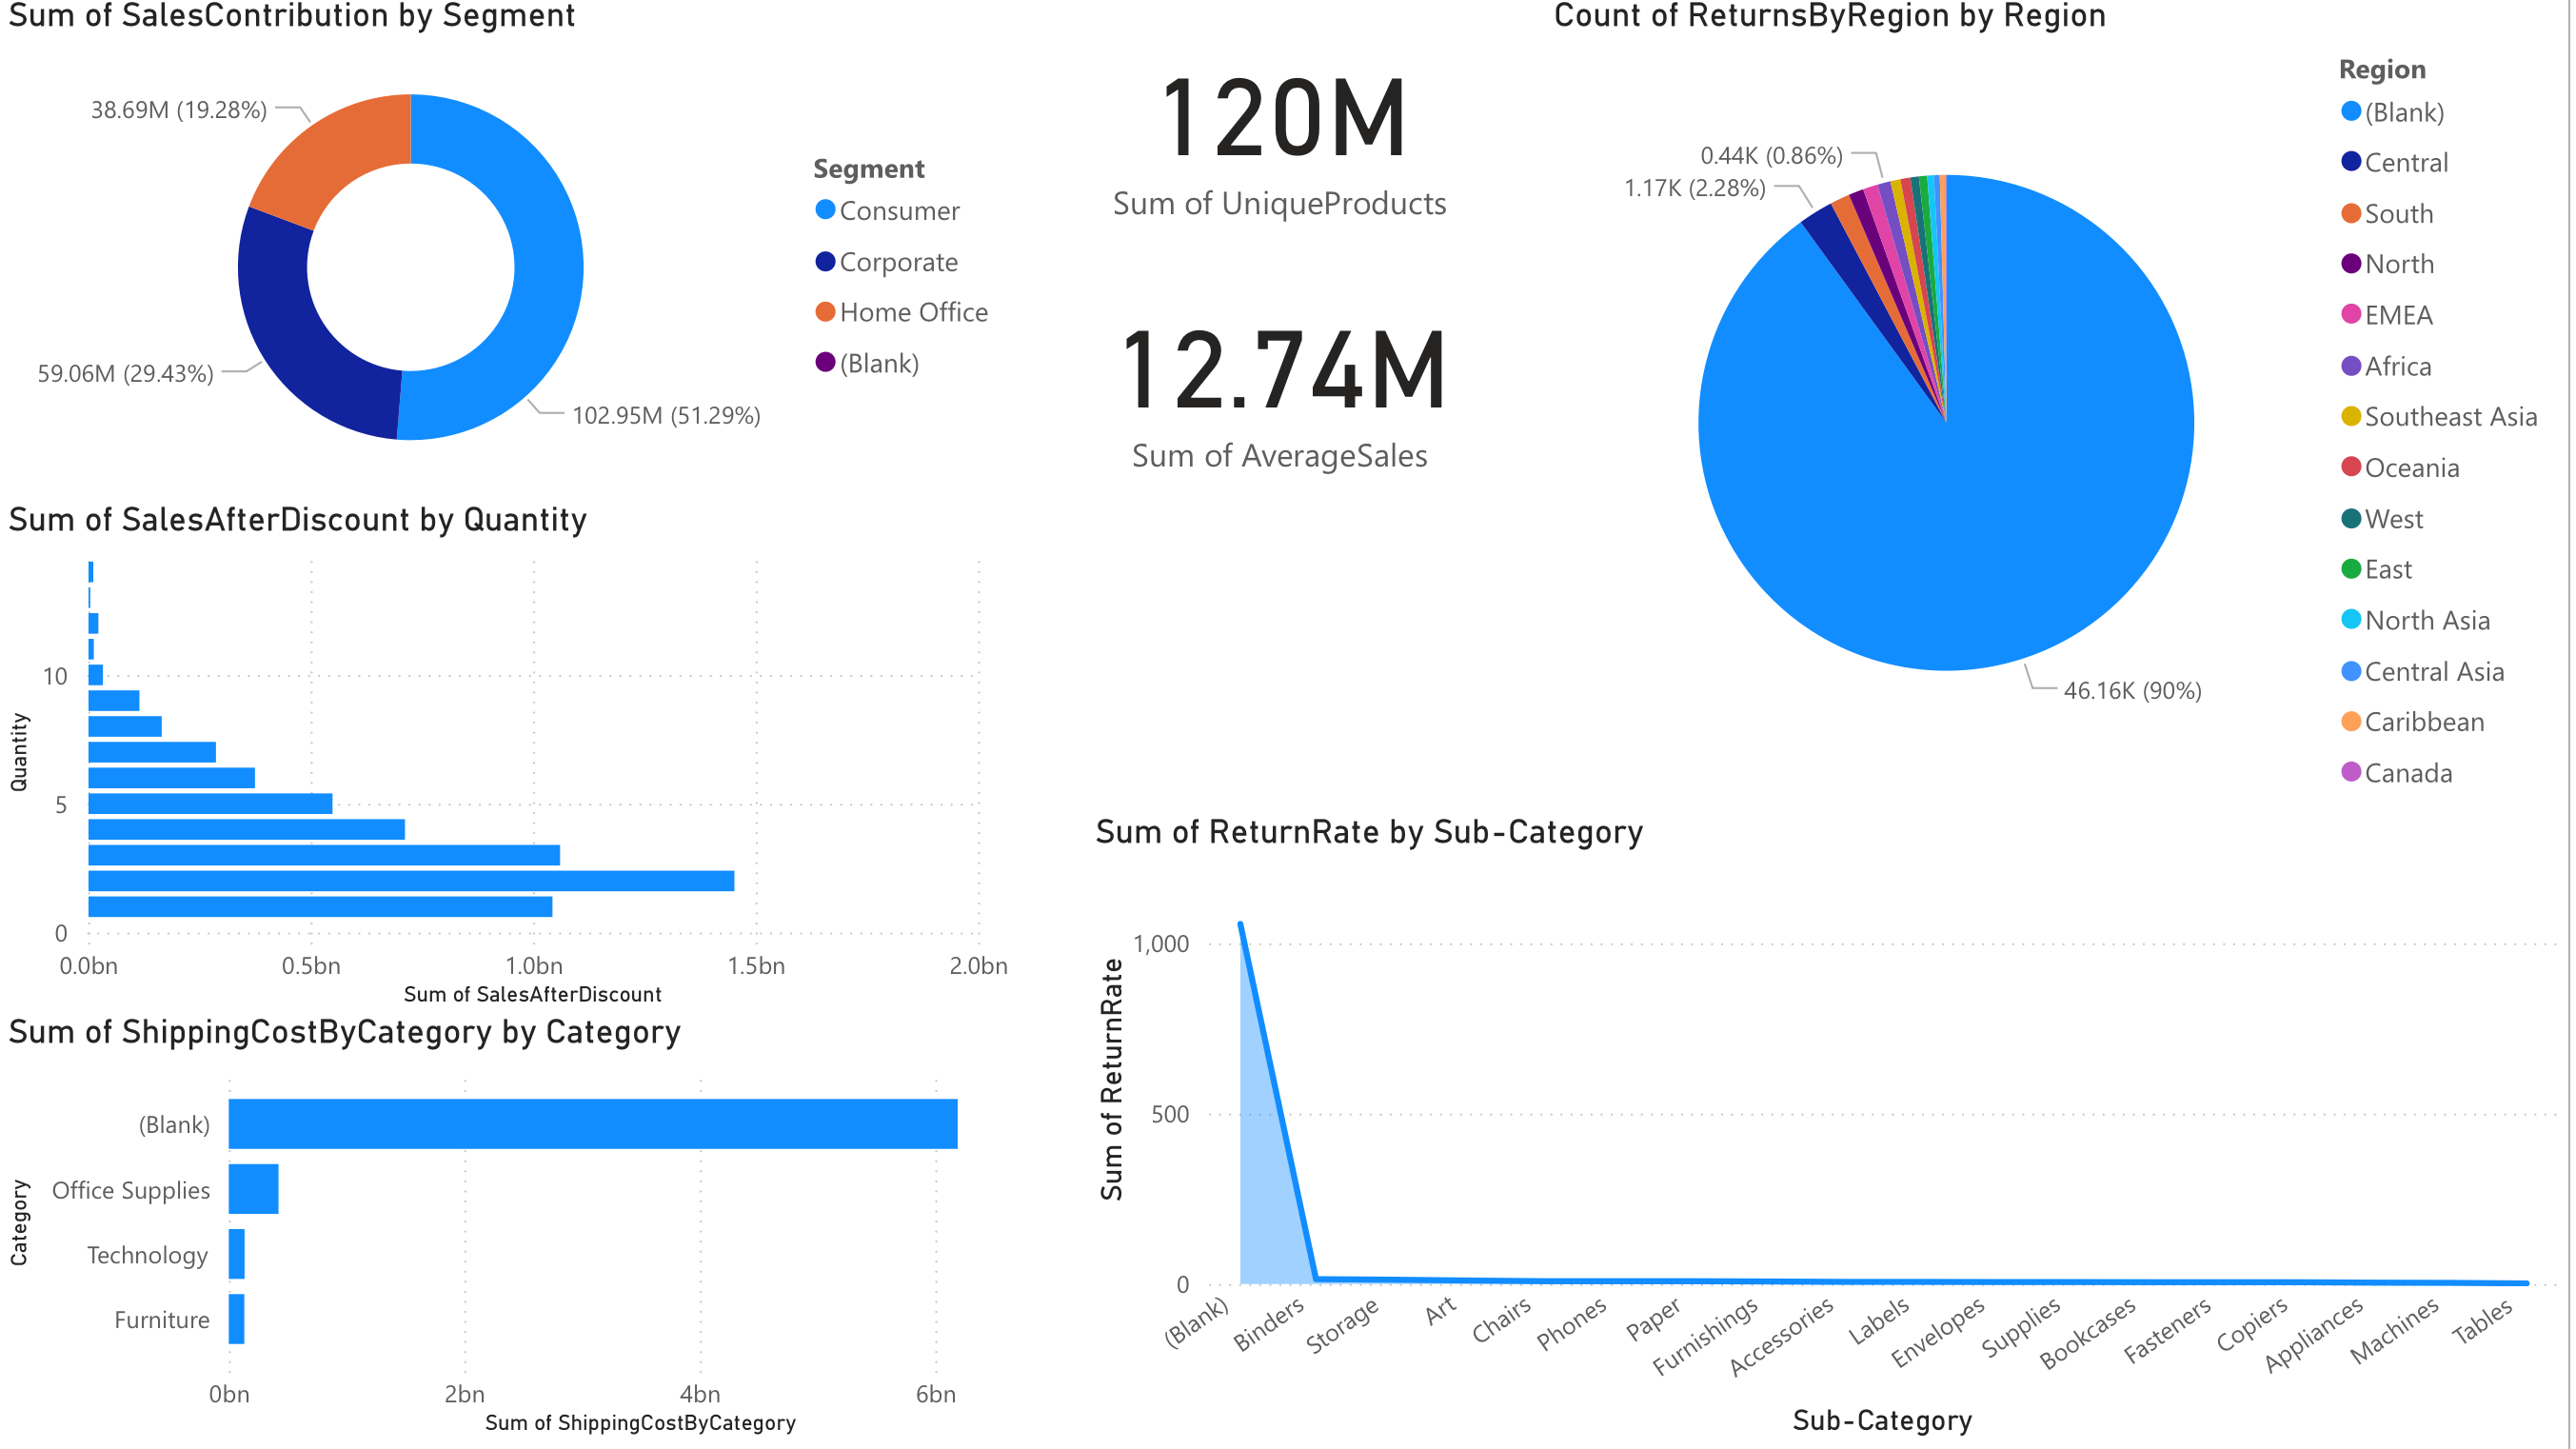

The dashboard page shown, as its layout file describes it:
{"tool":"powerbi","page":{"name":"Page 2","canvas":[1280,720],"ordinal":1},"visuals":[{"type":"card","fields":{"Values":["Sum(Orders.UniqueProducts)"]},"box":[508,0,261.5,123.3],"z":0},{"type":"stackedAreaChart","fields":{"Y":["Sum(Orders.ReturnRate)"],"Category":["Orders.Sub-Category"]},"box":[541.4,406.4,737.9,313.2],"z":1000},{"type":"barChart","fields":{"Y":["Sum(Orders.ShippingCostByCategory)"],"Category":["Orders.Category"]},"box":[0,506.4,541.4,213.2],"z":2000},{"type":"donutChart","fields":{"Category":["Orders.Segment"],"Y":["Sum(Orders.SalesContribution)"]},"box":[0,0,508,251.5],"z":3000},{"type":"pieChart","fields":{"Y":["CountNonNull(Orders.ReturnsByRegion)"],"Category":["Orders.Region"]},"box":[769.6,0,509.7,406.4],"z":4000},{"type":"clusteredBarChart","fields":{"Y":["Sum(Orders.SalesAfterDiscount)"],"Category":["Orders.Quantity"]},"box":[0,251.5,508,254.9],"z":5000},{"type":"card","fields":{"Values":["Sum(Orders.AverageSales)"]},"box":[508,123.3,261.5,128.3],"z":6000}]}

Visuals, with their boxes in screenshot pixels (x1, y1, x2, y2), scaled from the page's 1280x720 canvas onto the 2576x1449 screenshot:
card - Sum(Orders.UniqueProducts): <bbox>1022, 0, 1549, 248</bbox>
stackedAreaChart - Sum(Orders.ReturnRate) x Orders.Sub-Category: <bbox>1090, 818, 2575, 1448</bbox>
barChart - Sum(Orders.ShippingCostByCategory) x Orders.Category: <bbox>0, 1019, 1090, 1448</bbox>
donutChart - Orders.Segment x Sum(Orders.SalesContribution): <bbox>0, 0, 1022, 506</bbox>
pieChart - CountNonNull(Orders.ReturnsByRegion) x Orders.Region: <bbox>1549, 0, 2575, 818</bbox>
clusteredBarChart - Sum(Orders.SalesAfterDiscount) x Orders.Quantity: <bbox>0, 506, 1022, 1019</bbox>
card - Sum(Orders.AverageSales): <bbox>1022, 248, 1549, 506</bbox>
